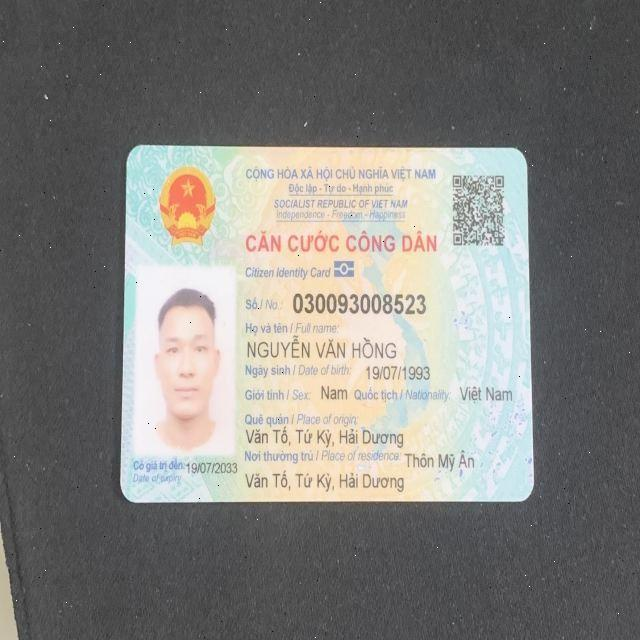current_place: (245, 469, 408, 497), (400, 450, 479, 474)
dob: (365, 363, 434, 381)
expire_date: (184, 460, 238, 477)
gender: (313, 378, 350, 405)
id: (288, 287, 429, 317)
name: (247, 334, 402, 361)
nationality: (457, 383, 516, 405)
origin_place: (243, 423, 405, 449)
